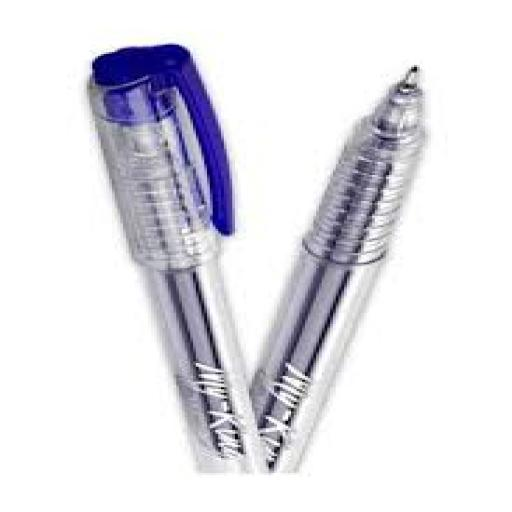tukenmez-kalem: (35, 14, 483, 494)
